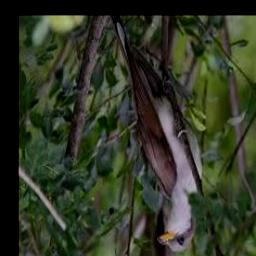Cuckoo: (113, 17, 201, 253)
